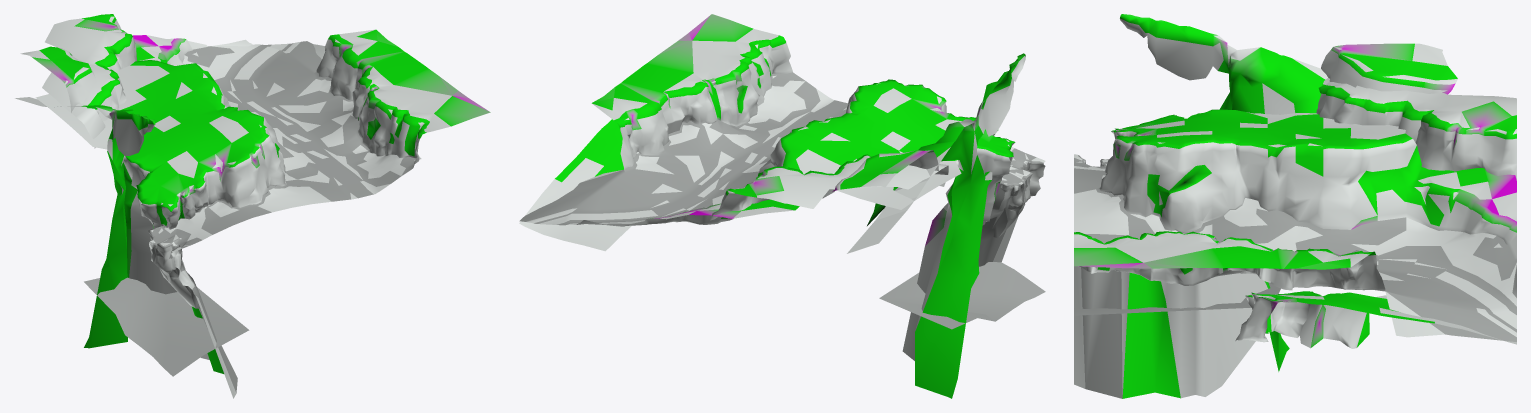
The picture shows the model from 3 angles, left to right: view 1: azimuth 30°, elevation 25°; view 2: azimuth 150°, elevation 25°; view 3: azimuth 270°, elevation 25°; orthographic projection. The views are drawn at different scales.
Parts seen in each view (by area): view 1: G:\FFXIV-MapTools\exports\f1f1\bg\ffxiv\fst_f1\fld\f1f1\bgpl (×14); view 2: G:\FFXIV-MapTools\exports\f1f1\bg\ffxiv\fst_f1\fld\f1f1\bgpl (×13); view 3: G:\FFXIV-MapTools\exports\f1f1\bg\ffxiv\fst_f1\fld\f1f1\bgpl (×15).
Part boxes in pixels (x1,y1,x2,y2): G:\FFXIV-MapTools\exports\f1f1\bg\ffxiv\fst_f1\fld\f1f1\bgpl (×14): (15,14,490,398); G:\FFXIV-MapTools\exports\f1f1\bg\ffxiv\fst_f1\fld\f1f1\bgpl (×13): (519,14,1045,398); G:\FFXIV-MapTools\exports\f1f1\bg\ffxiv\fst_f1\fld\f1f1\bgpl (×15): (1074,14,1516,398).
Bounding box in the file's own units: 128 × 107 × 128.
